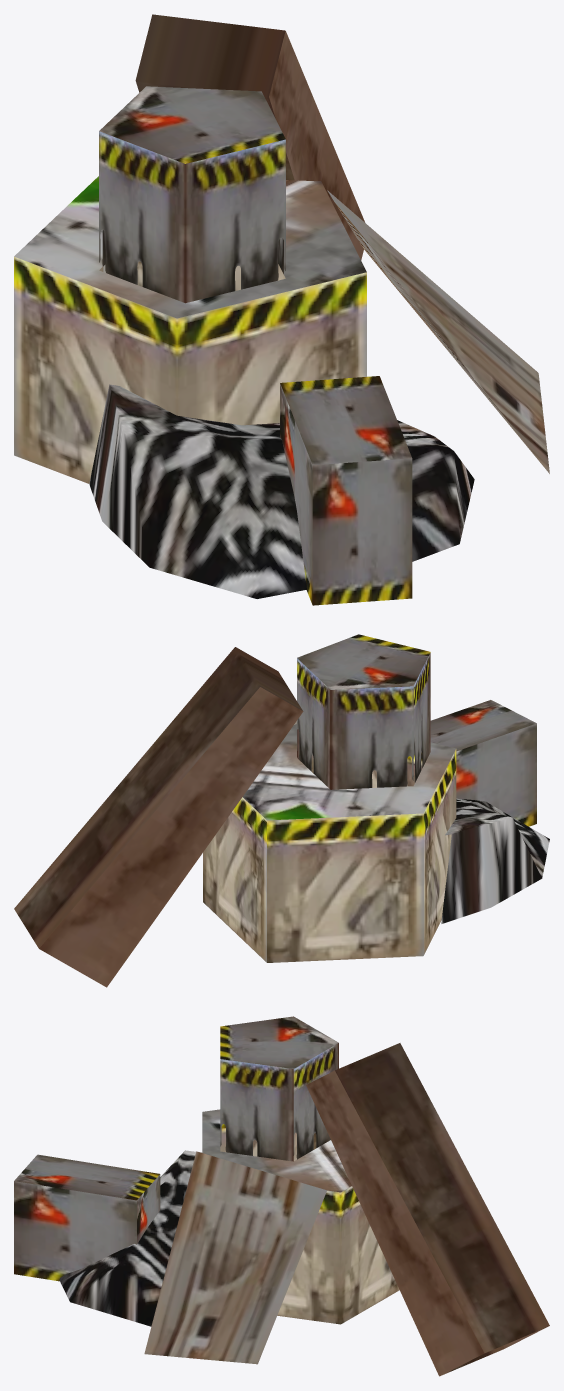
File: junkpile_hdtex.glb
3 renders of one model, top to bottom at view 1: azimuth 30°, elevation 25°; view 2: azimuth 150°, elevation 25°; view 3: azimuth 270°, elevation 25°, orthographic. The views are drawn at different scales.
Visible parts, largest first — view 1: pilojunk; view 2: pilojunk; view 3: pilojunk.
Part boxes in pixels (x1,y1,x2,y2): pilojunk: (14,14,549,605); pilojunk: (14,634,549,987); pilojunk: (14,1016,549,1376).
Size of the model in its own units: 4.73 by 3.74 by 6.92.
1 material, 1 textured.
